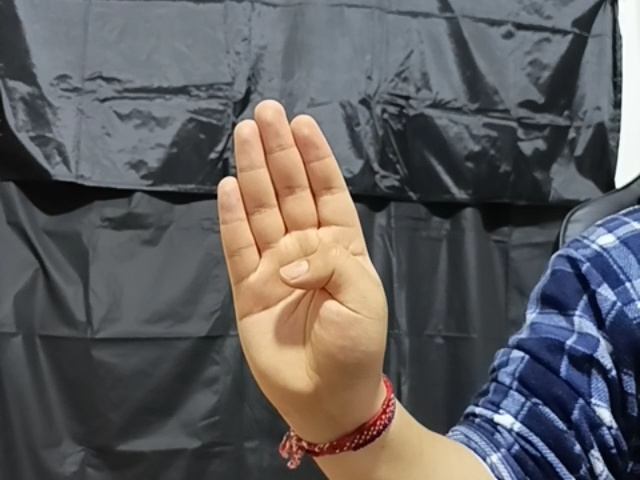B: (211, 93, 406, 408)
